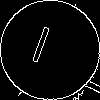I: (25, 25, 54, 73)
